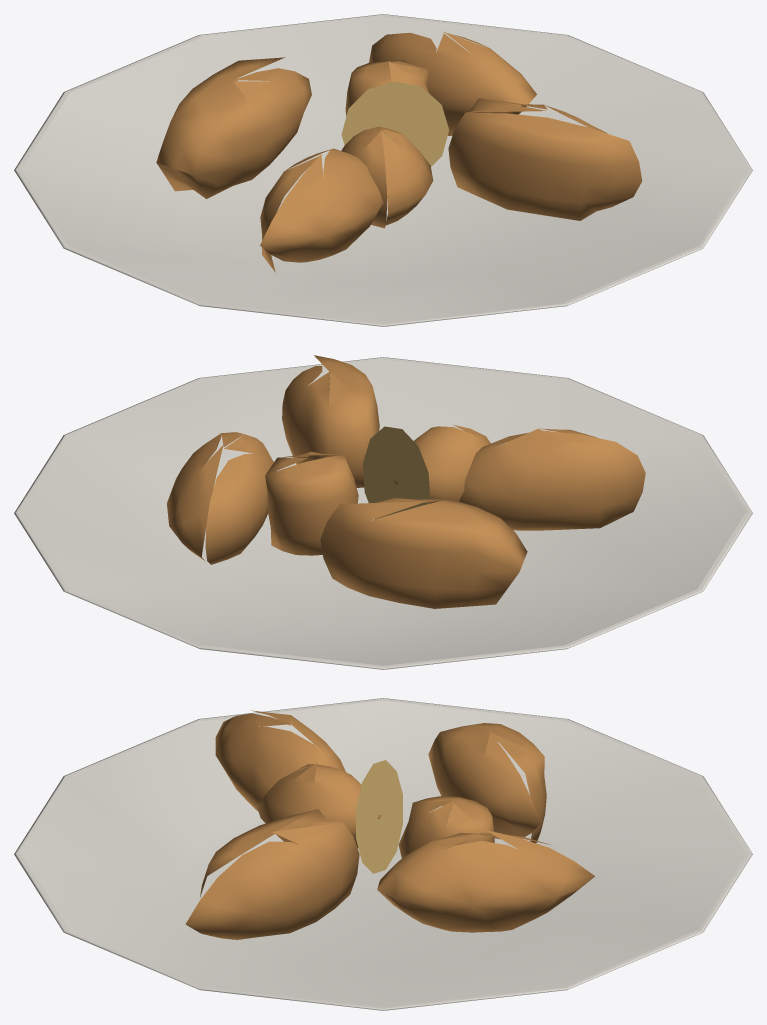
The model's file is KhoaiLuoc_Dia.glb.
3 renders of one model, top to bottom at view 1: azimuth 30°, elevation 25°; view 2: azimuth 150°, elevation 25°; view 3: azimuth 270°, elevation 25°, orthographic.
Visible parts, largest first — view 1: KhoaiLuoc_Dia; view 2: KhoaiLuoc_Dia; view 3: KhoaiLuoc_Dia.
Boxes of the visible parts, x1,y1,x2,y2 form: KhoaiLuoc_Dia: (14,14,752,326); KhoaiLuoc_Dia: (14,355,752,669); KhoaiLuoc_Dia: (14,698,752,1010).
Size of the model in its own units: 0.2182 by 0.0461 by 0.2182.
